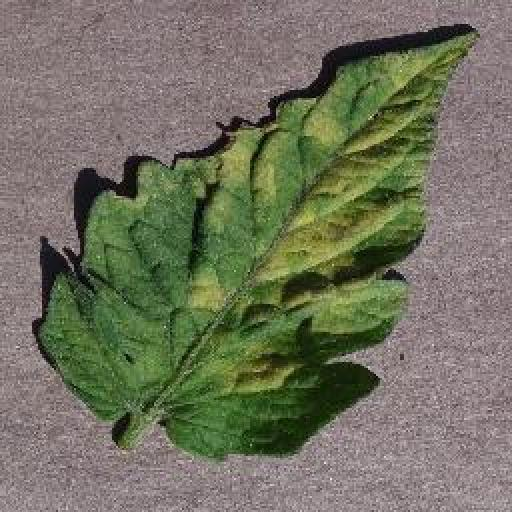Leaf Mold: (35, 25, 476, 467)
